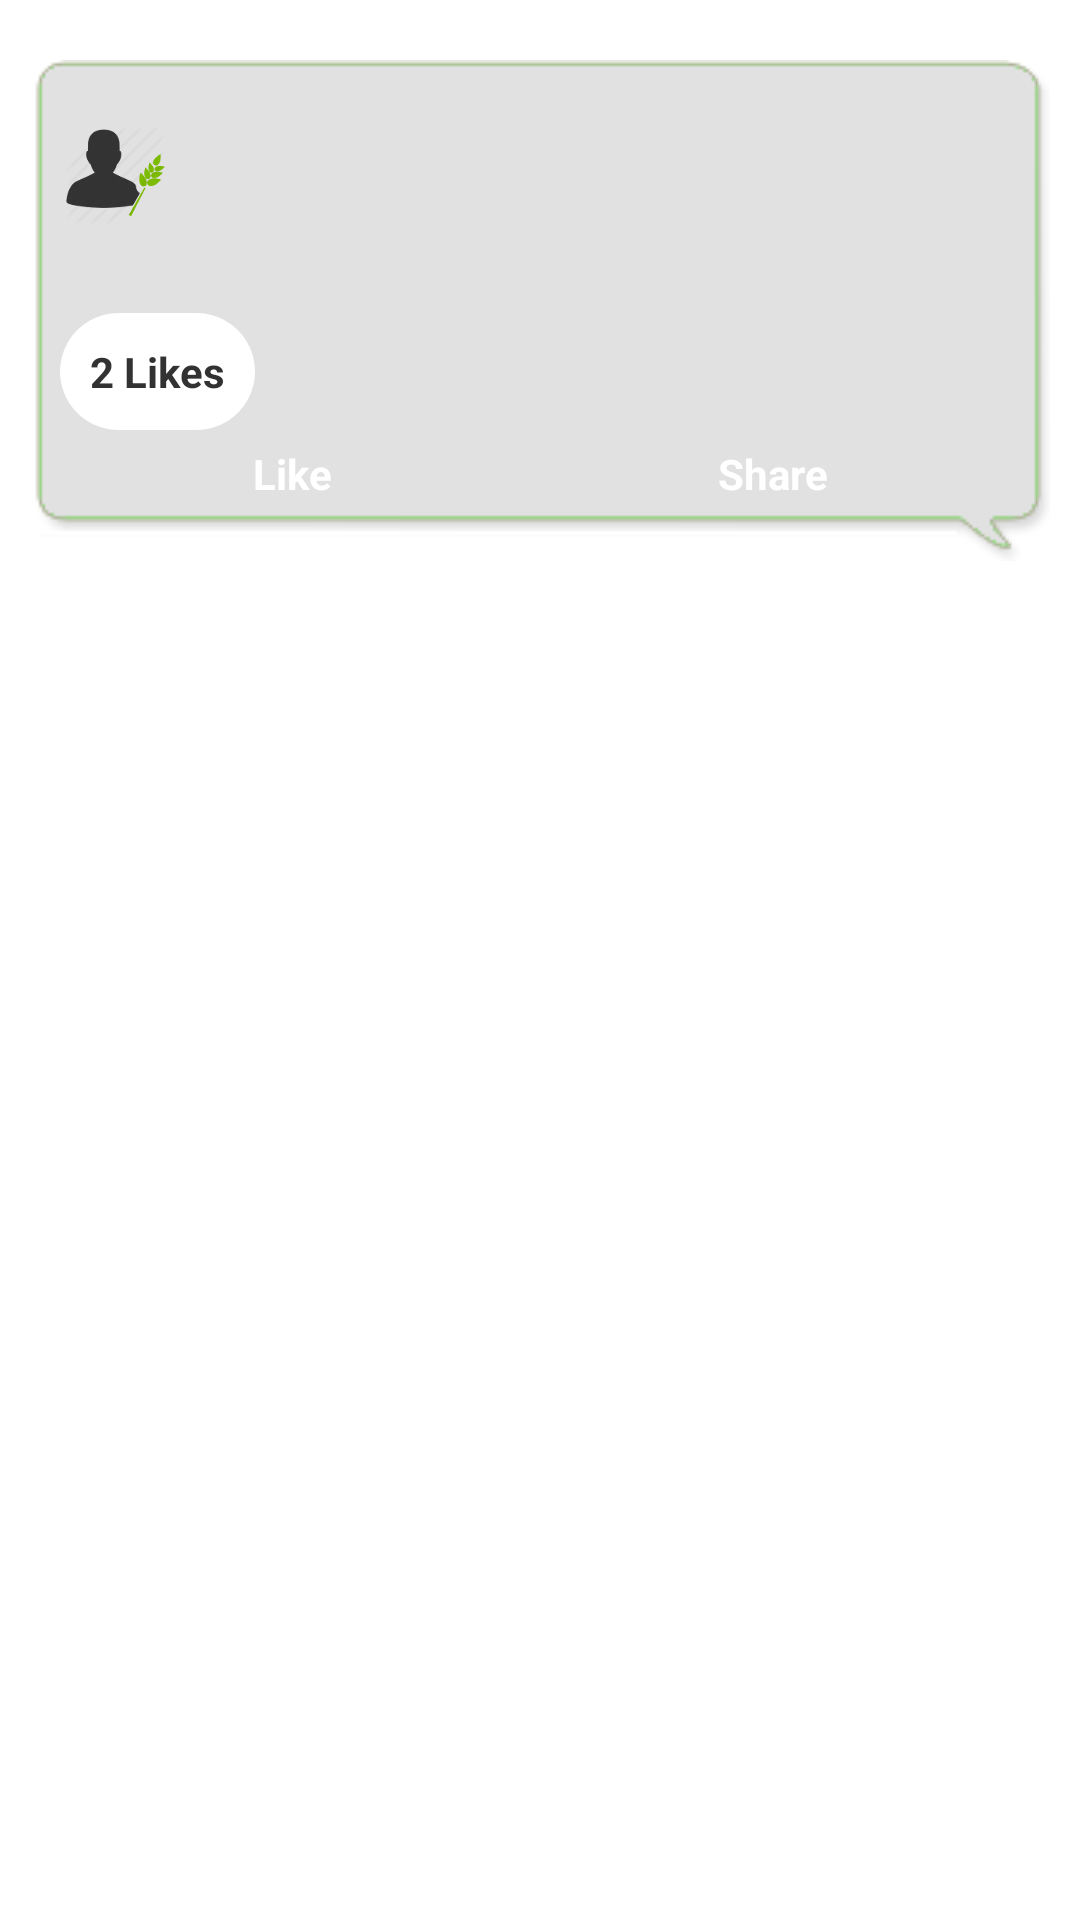

Where icons sit on this 1080w x 1920h app screen, as (x1, y1, x2, y2):
farmer: (66, 129, 165, 216)
